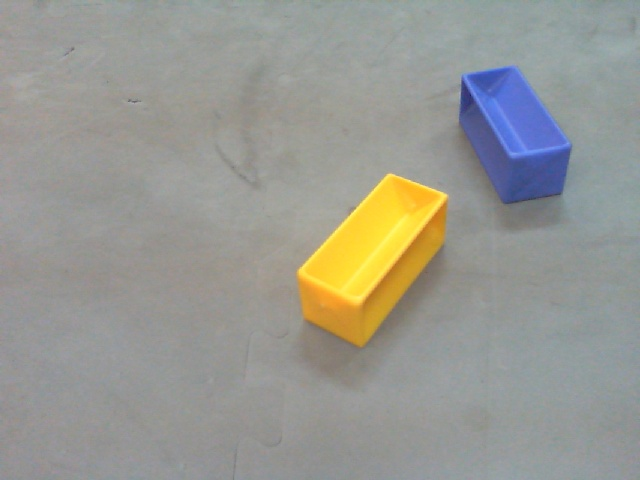BlueSample: (456, 63, 574, 209)
YellowSample: (295, 171, 450, 356)
